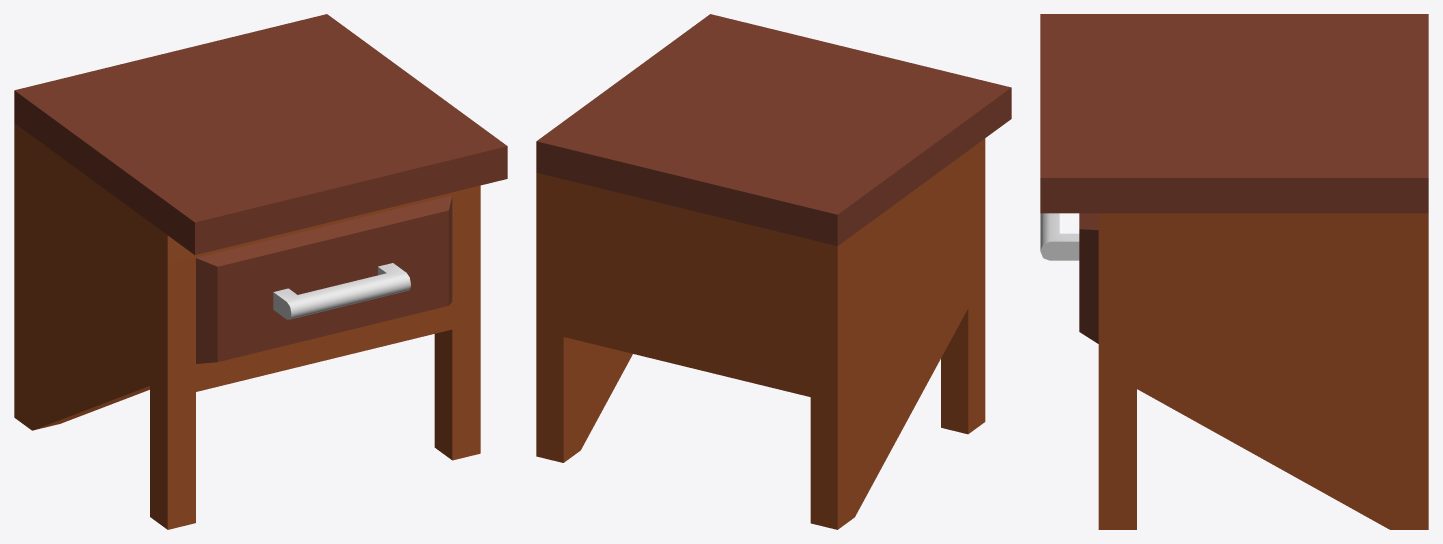
File: Drawer.glb
3 views of the same model, side by side, from view 1: azimuth 30°, elevation 25°; view 2: azimuth 150°, elevation 25°; view 3: azimuth 270°, elevation 25° (orthographic). The views are drawn at different scales.
Visible parts, largest first — view 1: Drawer_Obj; view 2: Drawer_Obj; view 3: Drawer_Obj.
Boxes of the visible parts, bbox=[...] form: Drawer_Obj: bbox=[14, 14, 507, 529]; Drawer_Obj: bbox=[536, 14, 1011, 529]; Drawer_Obj: bbox=[1040, 14, 1428, 529].
Size of the model in its own units: 1 by 1 by 1.
